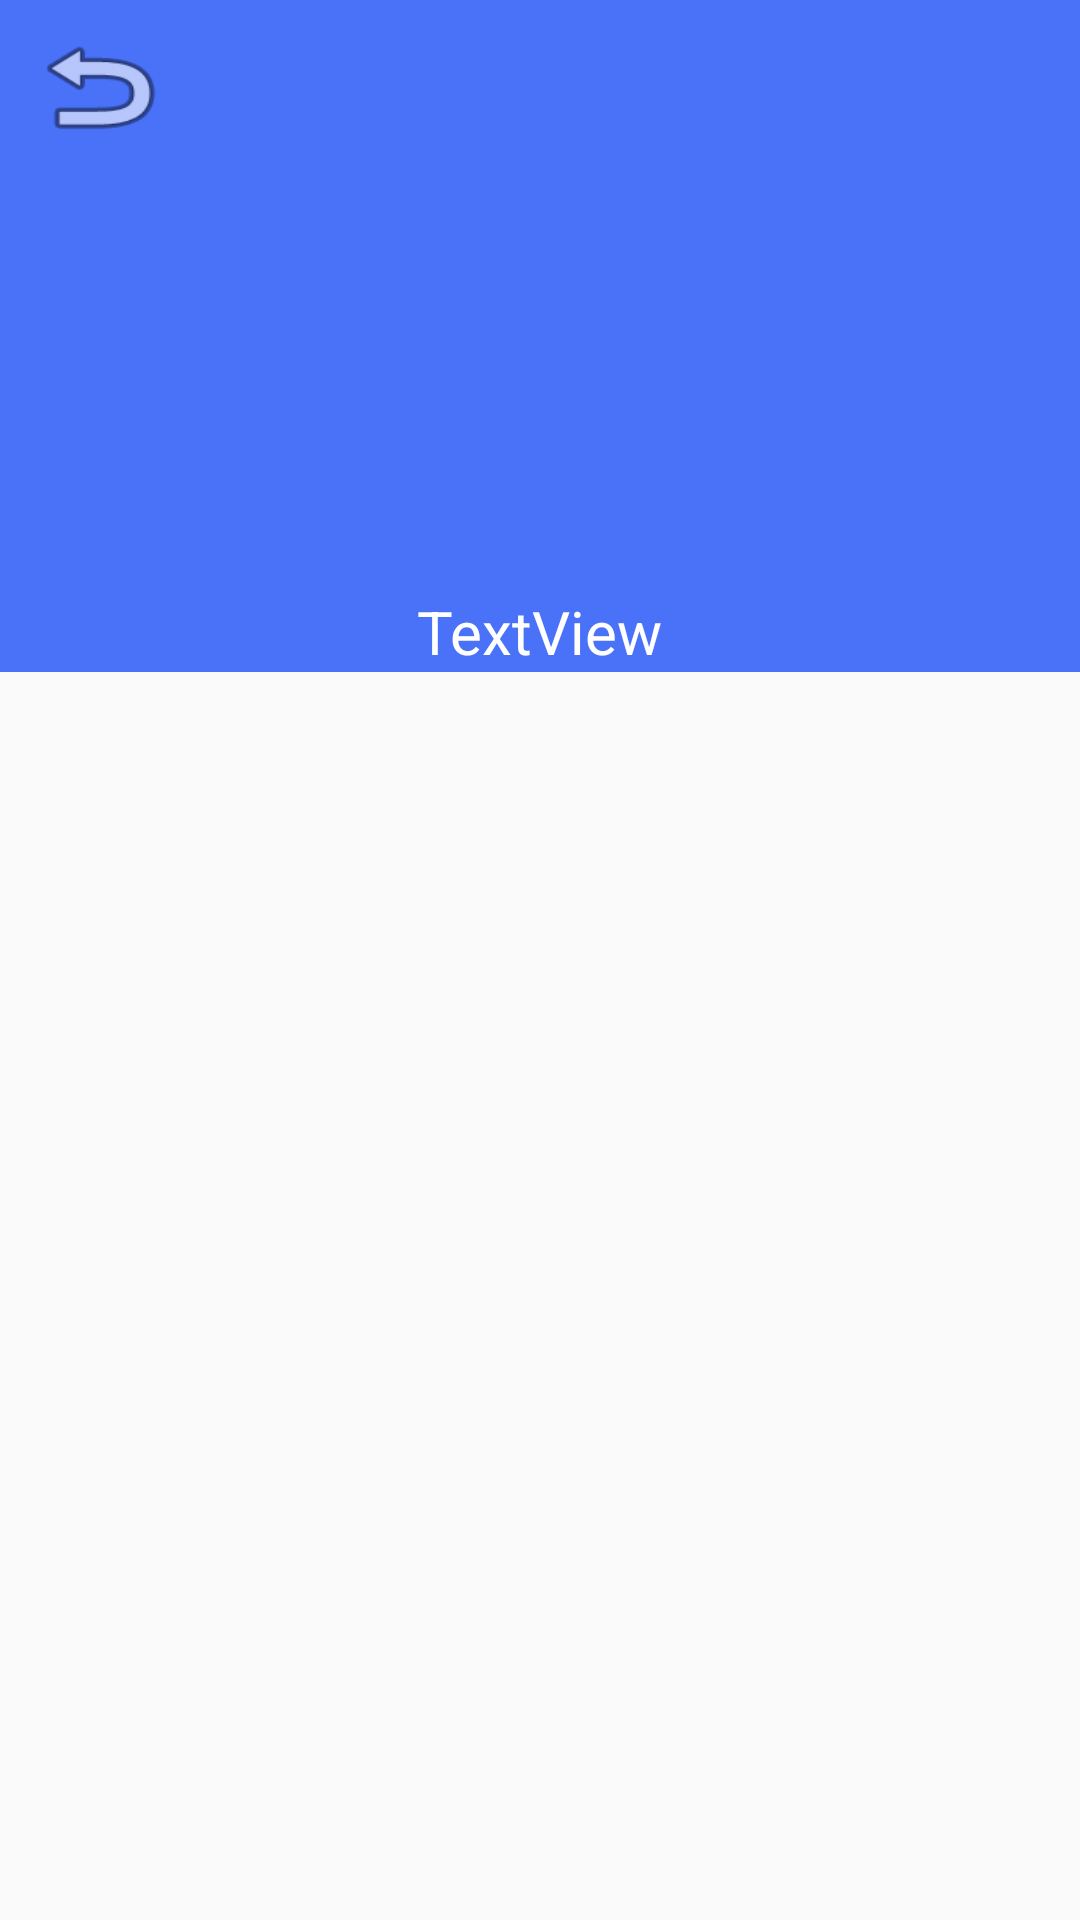

Icons on this 1080px x 1920px Android screen, each with the point to tap as (x=x, y=y):
revert: (x=101, y=88)
